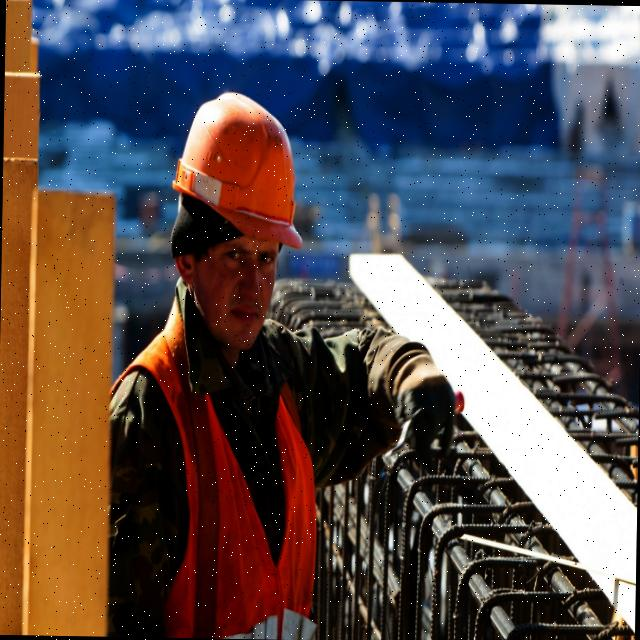Helmet: (172, 91, 306, 250)
Jacket: (143, 263, 321, 639)
